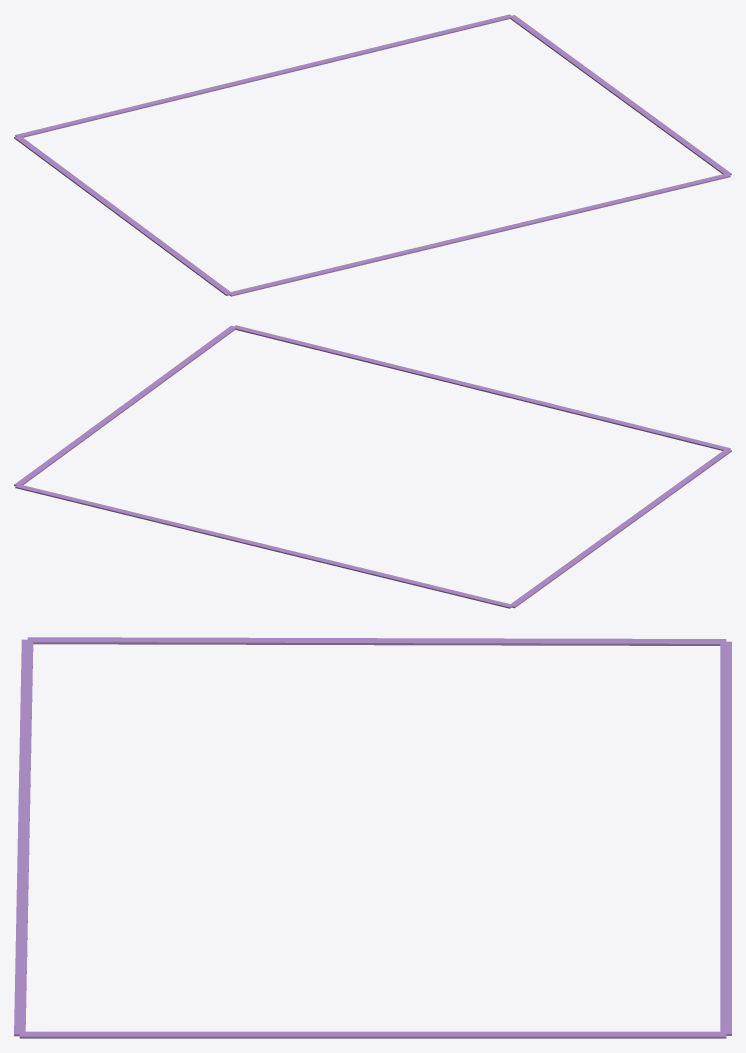
Rendered from pacific-sahibabad.glb.
3 renders of one model, top to bottom at view 1: azimuth 30°, elevation 25°; view 2: azimuth 150°, elevation 25°; view 3: azimuth 270°, elevation 25°, orthographic. The views are drawn at different scales.
Visible parts, largest first — view 1: NCR_pacific-sahibabad; view 2: NCR_pacific-sahibabad; view 3: NCR_pacific-sahibabad.
Part boxes in pixels (x1,y1,x2,y2): NCR_pacific-sahibabad: (14, 14, 731, 296); NCR_pacific-sahibabad: (14, 325, 731, 608); NCR_pacific-sahibabad: (14, 637, 731, 1038).
Bounding box in the file's own units: 163 × 0.4 × 124.
